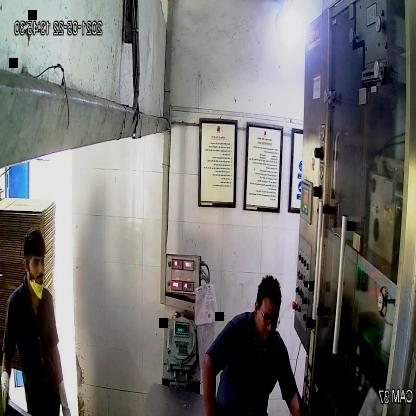goggles: (256, 307, 281, 330)
no_goggles: (26, 252, 50, 272)
